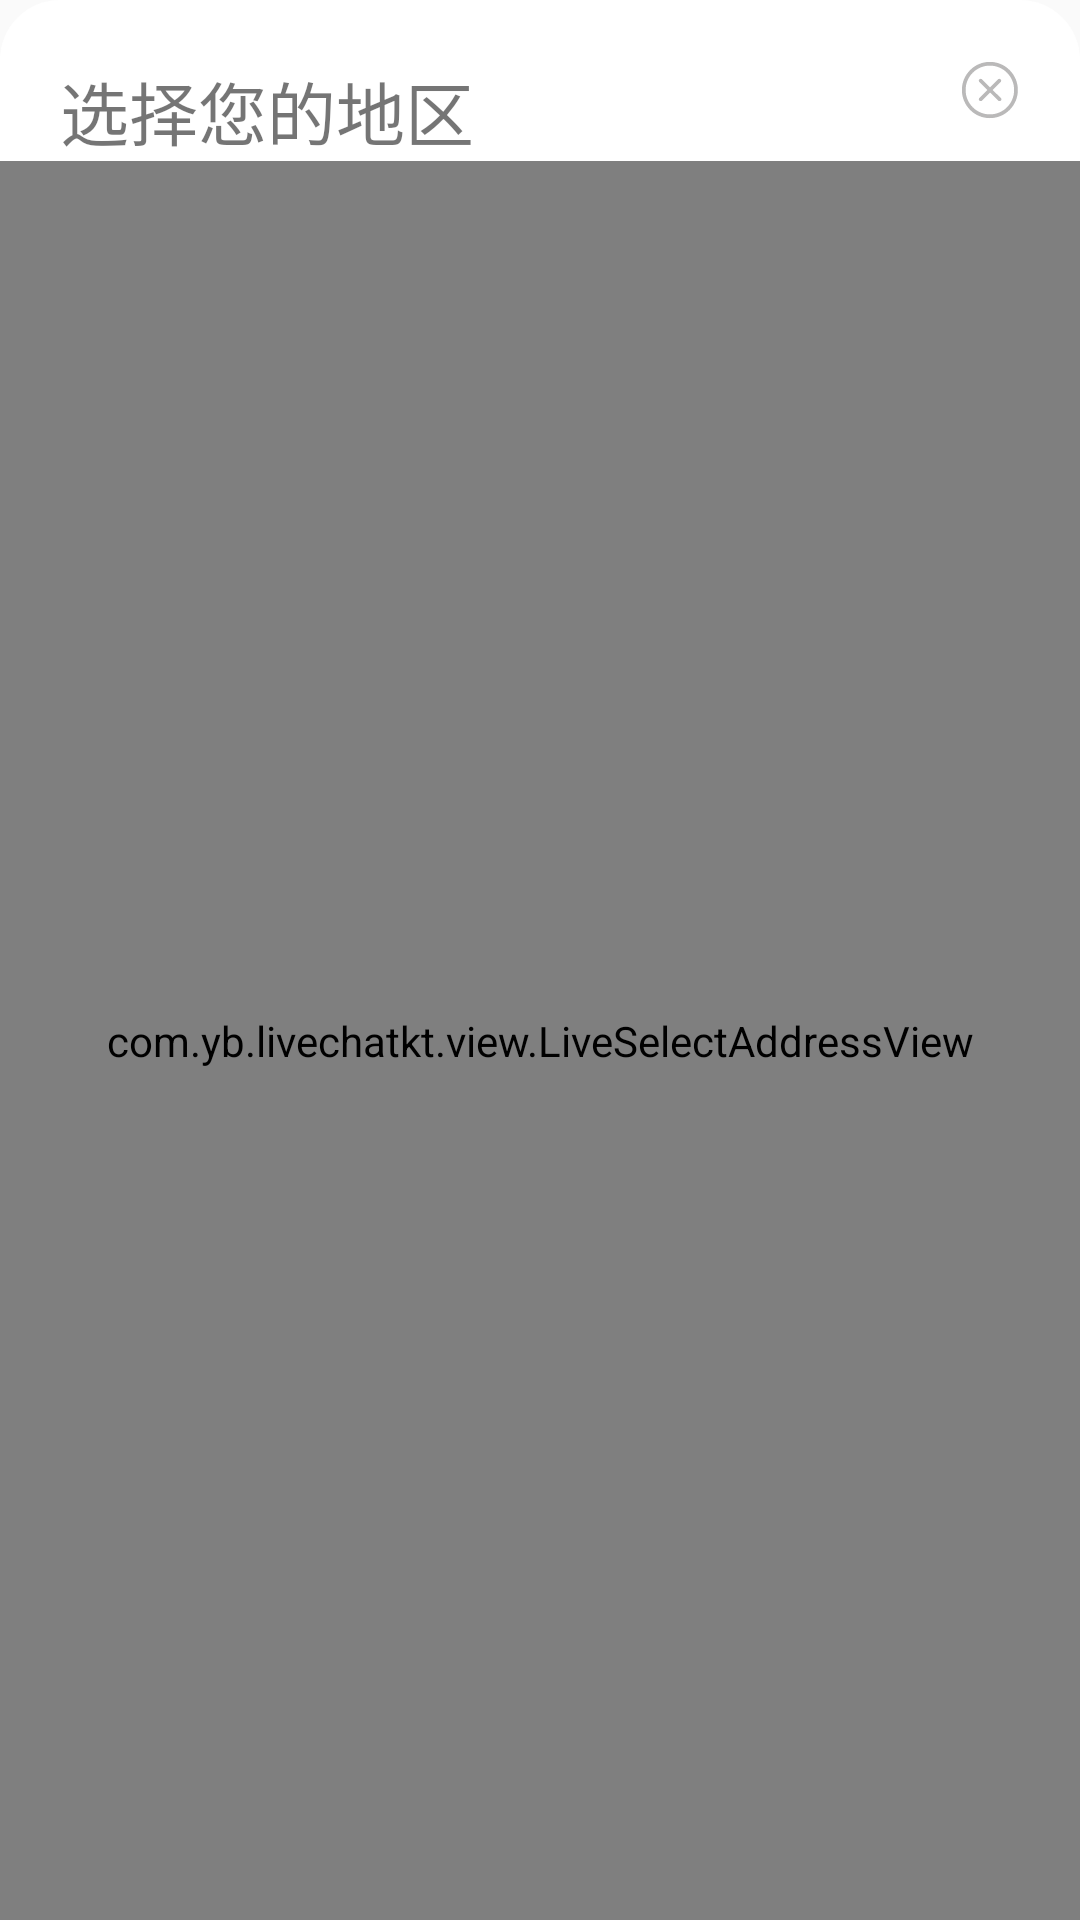

Point at icon controls on the screen. Image size 1080px x 1920px, points as point (x, y).
close: point (990, 90)
